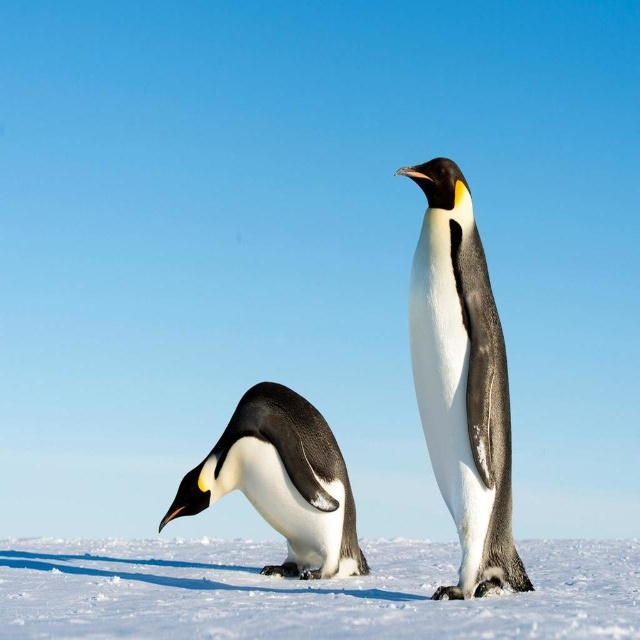Penguin: (390, 161, 525, 607), (159, 379, 369, 577)
